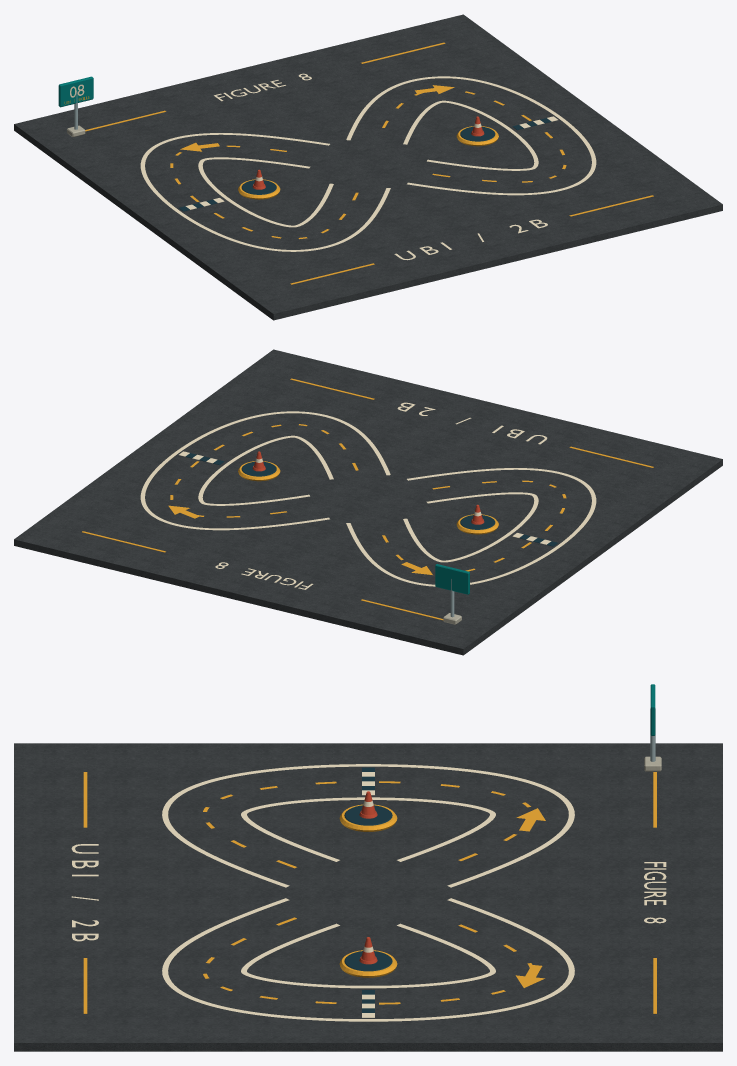
3 renders of one model, top to bottom at view 1: azimuth 30°, elevation 25°; view 2: azimuth 150°, elevation 25°; view 3: azimuth 270°, elevation 25°, orthographic. The views are drawn at different scales.
Visible parts, largest first — view 1: Square course tile, Track paint, Course flag, Court rule, Court identity, Inset rubber, Lobe markers; view 2: Square course tile, Track paint, Course flag, Court rule, Court identity, Inset rubber, Lobe markers; view 3: Square course tile, Track paint, Court identity, Inset rubber, Lobe markers, Court rule, Test gate checker, Direction arrows, Flexible cones.
Part boxes in pixels (x1,y1,x2,y2): Square course tile: (14,14,722,320); Track paint: (140,76,596,251); Course flag: (58,76,93,107); Court rule: (85,42,653,284); Court identity: (214,73,547,260); Inset rubber: (241,126,495,194); Lobe markers: (238,126,498,199); Square course tile: (14,349,722,655); Track paint: (140,411,596,586); Course flag: (435,564,469,594); Court rule: (82,378,653,620); Court identity: (215,402,547,589); Inset rubber: (241,461,495,529); Lobe markers: (238,461,498,534); Square course tile: (14,743,722,1051); Track paint: (162,764,574,1021); Court identity: (71,844,666,941); Inset rubber: (344,805,392,971); Lobe markers: (339,804,397,977); Court rule: (83,772,656,1013); Test gate checker: (362,767,374,1017); Direction arrows: (515,808,545,987); Flexible cones: (359,791,377,964).
Size of the model in its own units: 16 by 2.02 by 16.
Materials: 8 (2 with a texture image).
